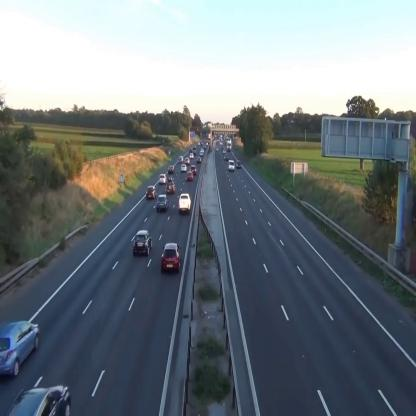car: (0, 320, 40, 379), (161, 244, 182, 274), (133, 230, 152, 255), (178, 192, 192, 212), (157, 194, 169, 211), (146, 185, 156, 199), (166, 181, 176, 193), (158, 174, 166, 183), (187, 171, 193, 180), (181, 163, 187, 172), (191, 165, 196, 175), (168, 165, 175, 172)
lorry: (228, 160, 235, 172), (236, 160, 242, 168)
